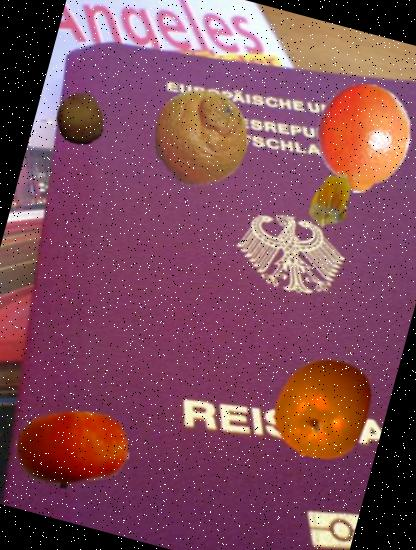Mandarine: (140, 78, 261, 198)
Nectarine: (2, 380, 142, 520)
Peach: (48, 88, 112, 152)
Physalis: (294, 164, 366, 237)
Tangelo: (296, 72, 416, 205)
Tomato: (258, 344, 388, 472)
